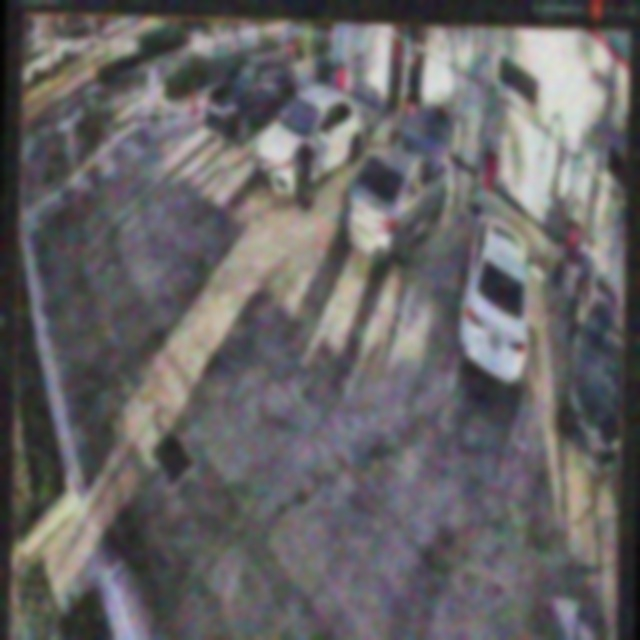Car: (341, 108, 451, 265), (253, 82, 369, 193), (458, 214, 530, 387)
